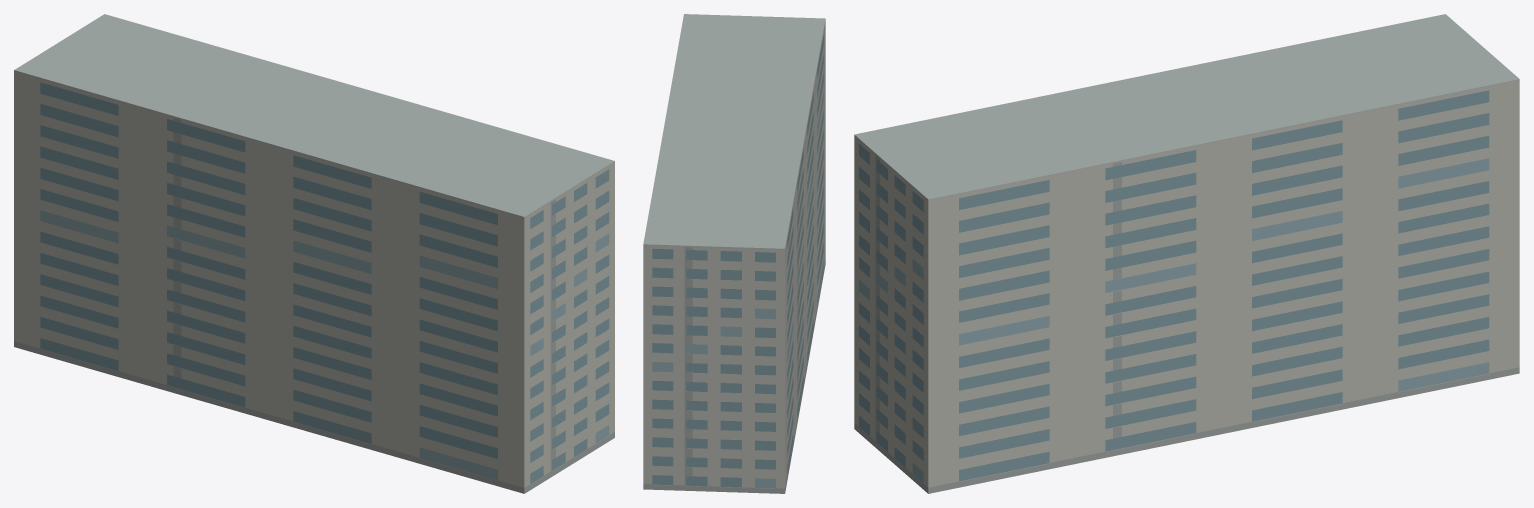
Rendered from residential-e302b17f-109e-4cc8-96b2-91e85ddb63fa.glb.
3 views of the same model, side by side, from view 1: azimuth 30°, elevation 25°; view 2: azimuth 150°, elevation 25°; view 3: azimuth 270°, elevation 25° (orthographic). The views are drawn at different scales.
Visible parts, largest first — view 1: residential-e302b17f-109e-4cc8-96b2-91e85ddb63fa.tmp; view 2: residential-e302b17f-109e-4cc8-96b2-91e85ddb63fa.tmp; view 3: residential-e302b17f-109e-4cc8-96b2-91e85ddb63fa.tmp.
Boxes of the visible parts, x1=… form: residential-e302b17f-109e-4cc8-96b2-91e85ddb63fa.tmp: x1=14, y1=14, x2=614, y2=493; residential-e302b17f-109e-4cc8-96b2-91e85ddb63fa.tmp: x1=643, y1=14, x2=825, y2=493; residential-e302b17f-109e-4cc8-96b2-91e85ddb63fa.tmp: x1=854, y1=14, x2=1519, y2=493.
Bounding box in the file's own units: 52.68 × 39 × 79.88.
